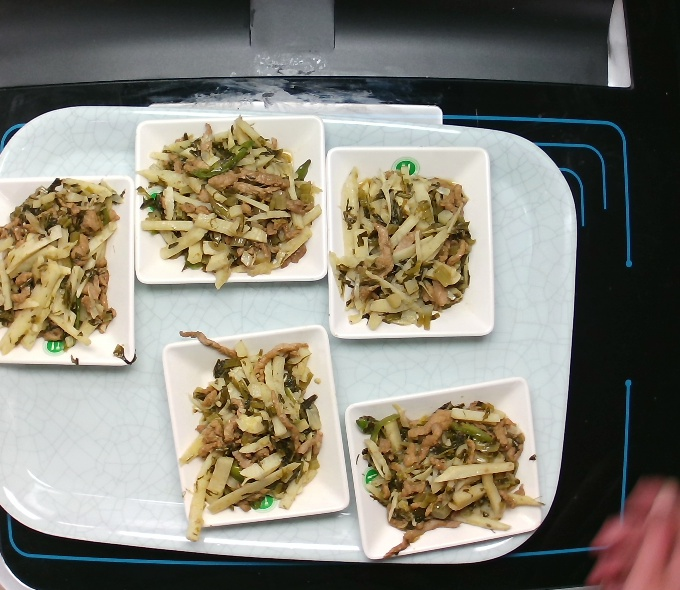wcq-RouSiDongSun: (170, 318, 331, 529), (358, 395, 535, 556), (137, 121, 317, 277), (1, 174, 127, 374), (334, 154, 470, 337)
